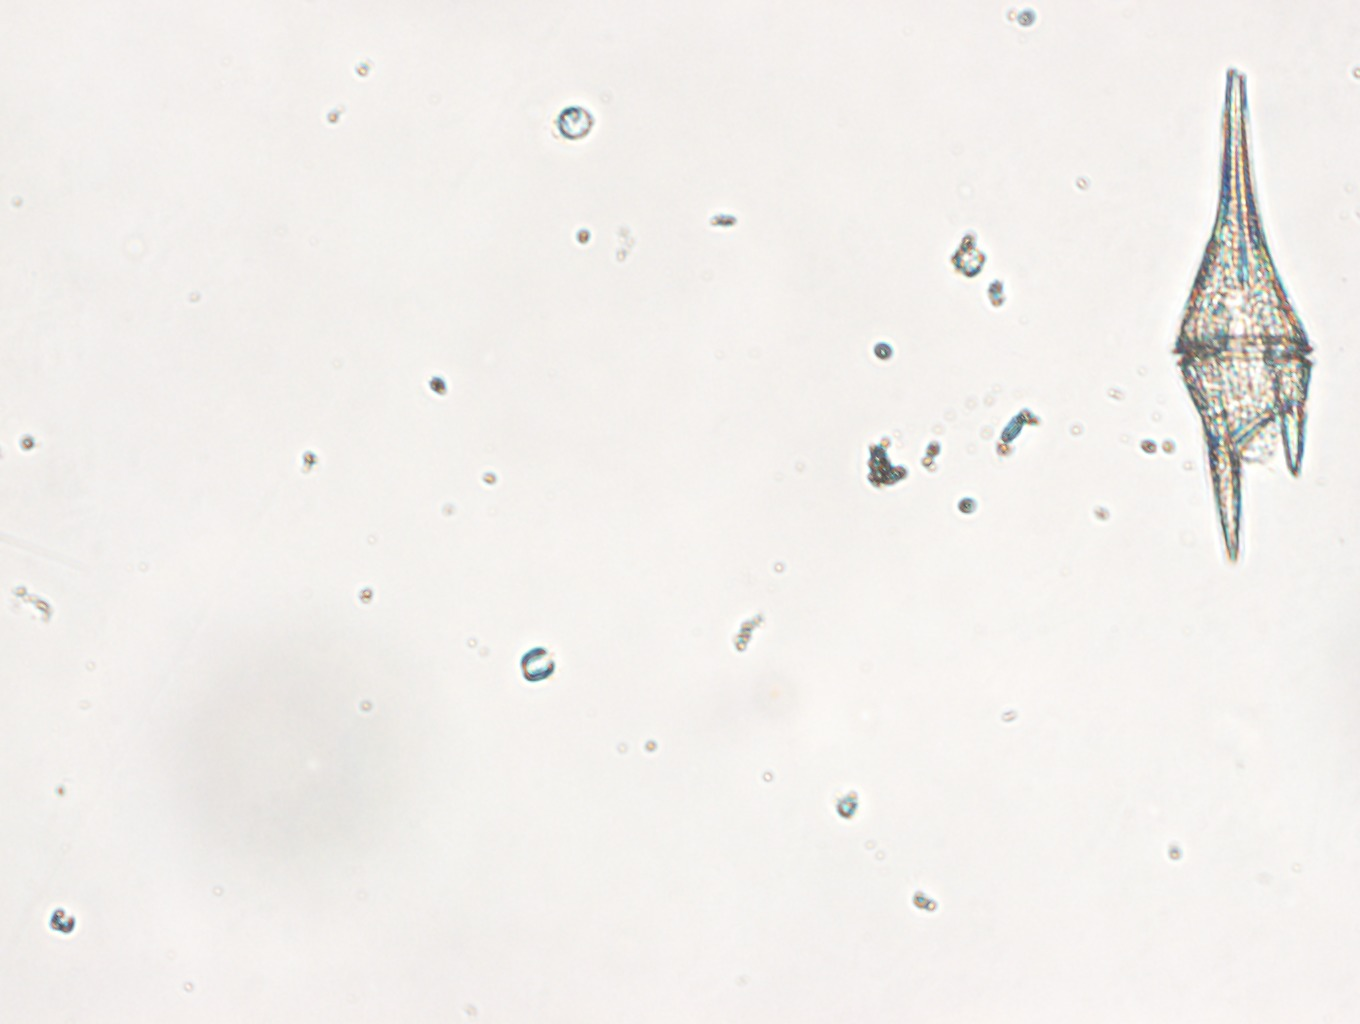ceratium furca: (1170, 66, 1315, 564)
